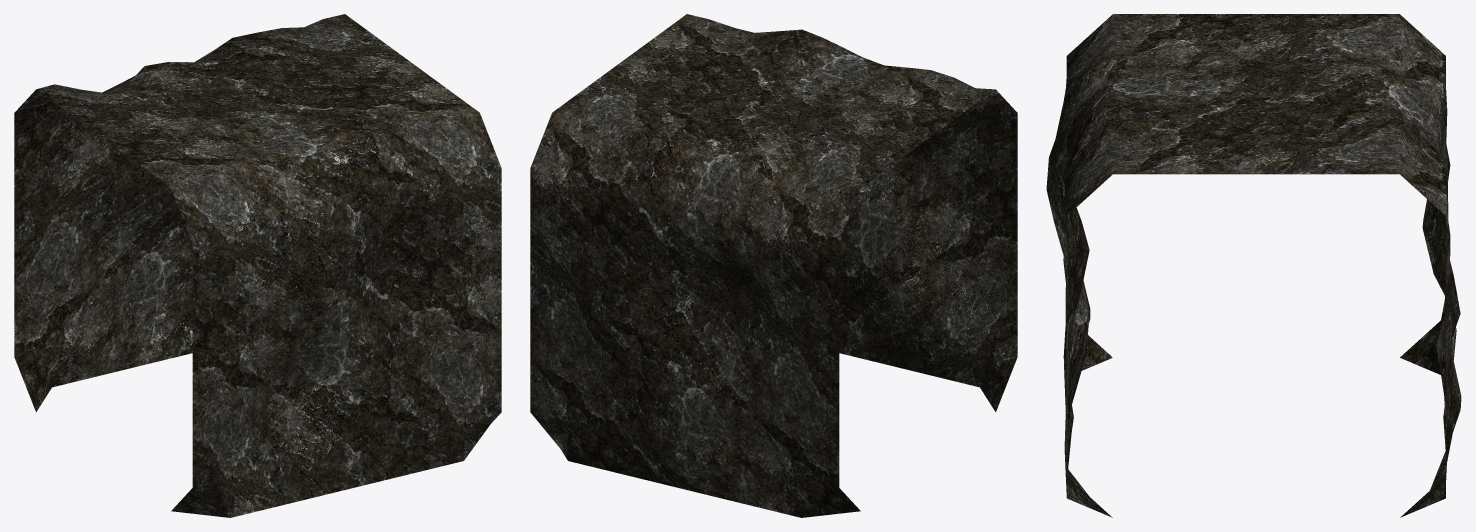
Rendered from Cave_018.fbx.
3 renders of one model, left to right at view 1: azimuth 30°, elevation 25°; view 2: azimuth 150°, elevation 25°; view 3: azimuth 270°, elevation 25°, orthographic. The views are drawn at different scales.
Parts seen in each view (by area): view 1: Cave.018; view 2: Cave.018; view 3: Cave.018.
Part boxes in pixels (x1,y1,x2,y2): Cave.018: [14, 14, 501, 517]; Cave.018: [530, 14, 1017, 517]; Cave.018: [1046, 14, 1461, 517].
Bounding box in the file's own units: 300 × 308 × 328.
